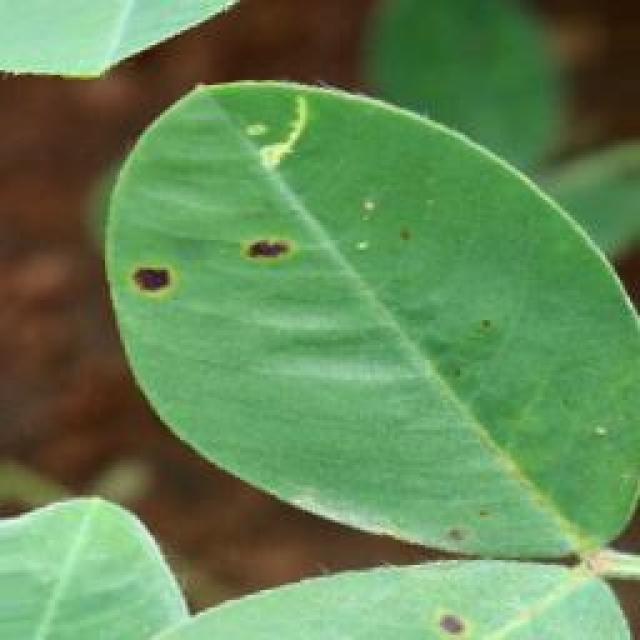Early_leaf_spot: (119, 235, 180, 319), (244, 203, 302, 283), (382, 196, 431, 268), (434, 609, 480, 640)
